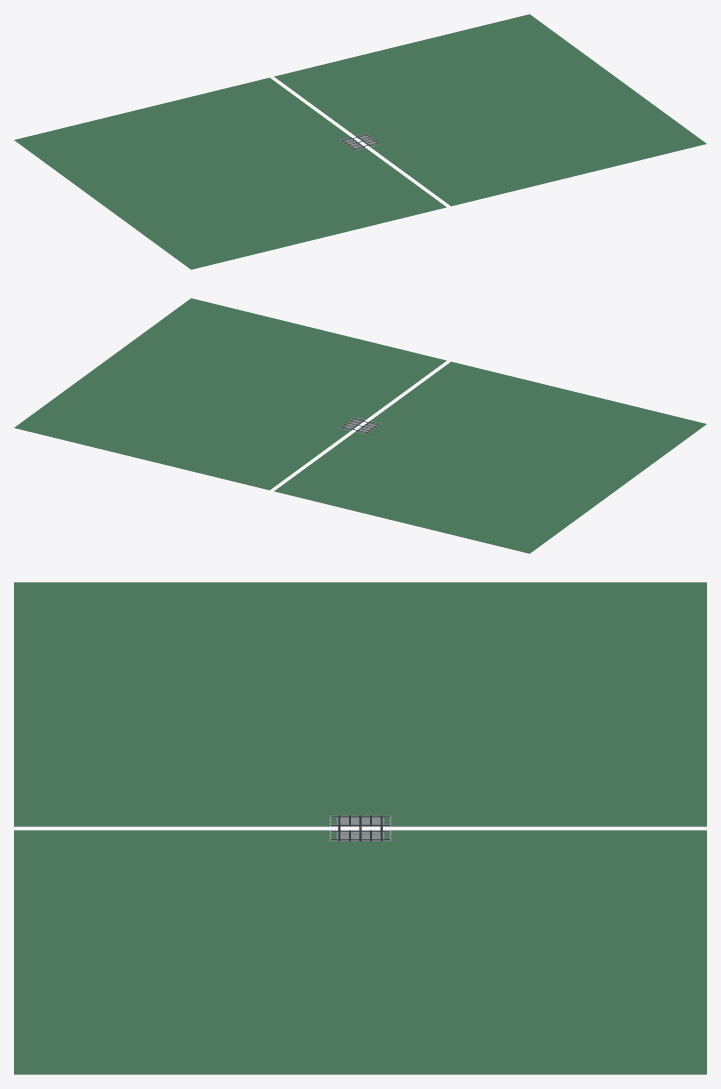
Rendered from riverside-ground.glb.
3 views of the same model, one above another, from view 1: azimuth 30°, elevation 25°; view 2: azimuth 150°, elevation 25°; view 3: azimuth 270°, elevation 25° (orthographic). The views are drawn at different scales.
Visible parts, largest first — view 1: Surrounding landscape (×2); view 2: Surrounding landscape (×2); view 3: Surrounding landscape (×2).
Boxes of the visible parts, <box> form: Surrounding landscape (×2): <box>14,14,706,269</box>; Surrounding landscape (×2): <box>14,298,706,553</box>; Surrounding landscape (×2): <box>14,582,706,1074</box>.
Bounding box in the file's own units: 12100 × 9.5 × 7200.
